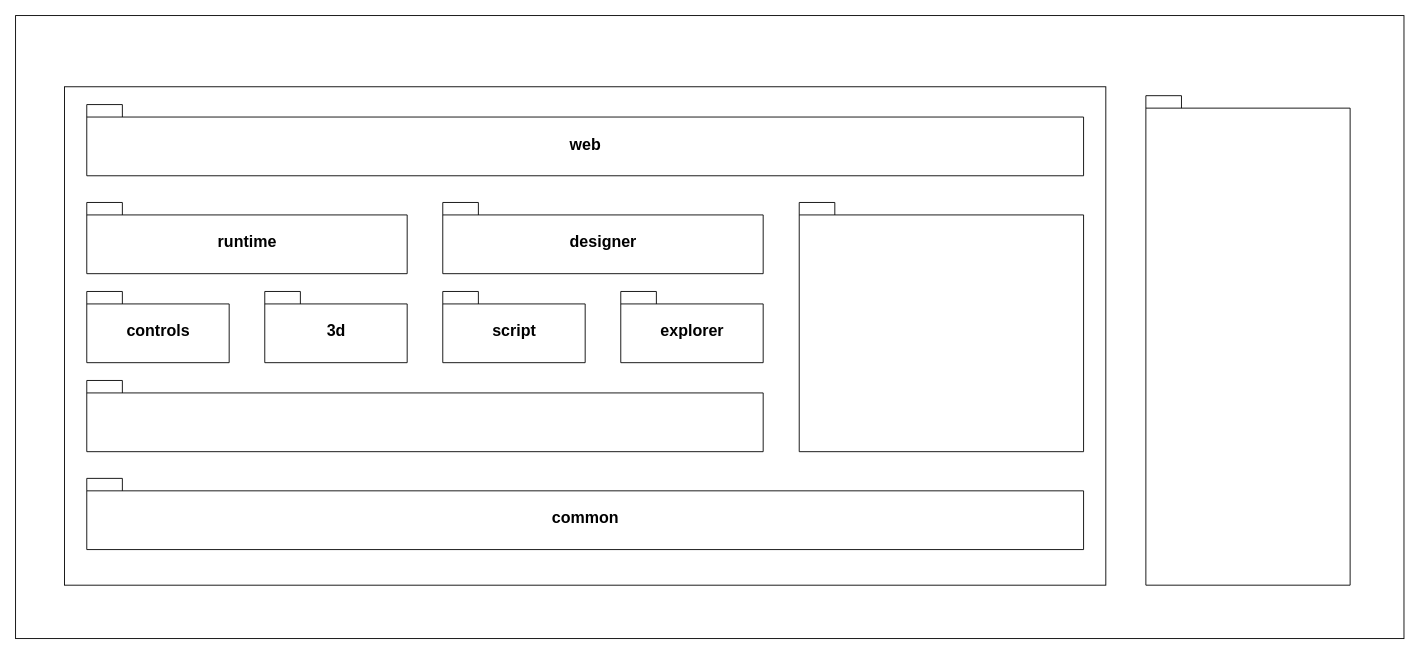
This 1420x654 diagram has some shape labels left out. The centre of each missing label's shape, as x and y in pixels:
"core" goes at pixel 424 416.
"portal" goes at pixel 941 327.
"wechat app" goes at pixel 1247 340.
